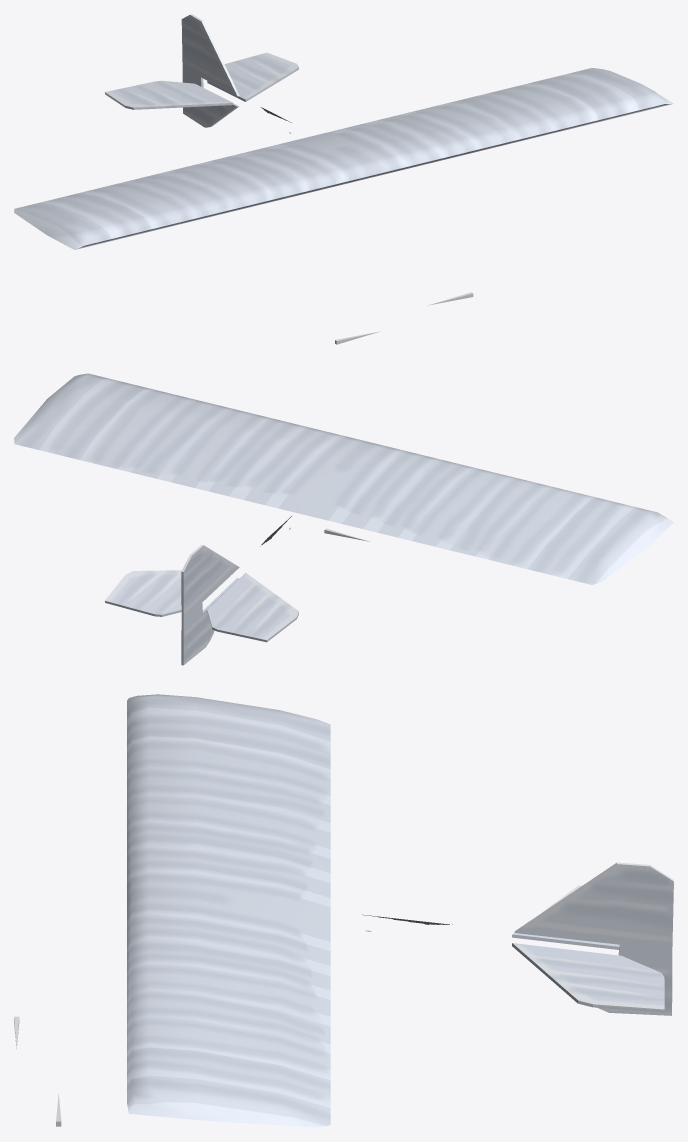
The model's file is Ultralight.FBX.
3 renders of one model, top to bottom at view 1: azimuth 30°, elevation 25°; view 2: azimuth 150°, elevation 25°; view 3: azimuth 270°, elevation 25°, orthographic. The views are drawn at different scales.
Parts seen in each view (by area): view 1: Ultrastar; view 2: Ultrastar; view 3: Ultrastar.
Part boxes in pixels (x1,y1,x2,y2): Ultrastar: (14,14,673,249); Ultrastar: (14,373,673,665); Ultrastar: (127,694,673,1127).
Size of what is drawn, in the model's own units: 917 by 217 by 612.
